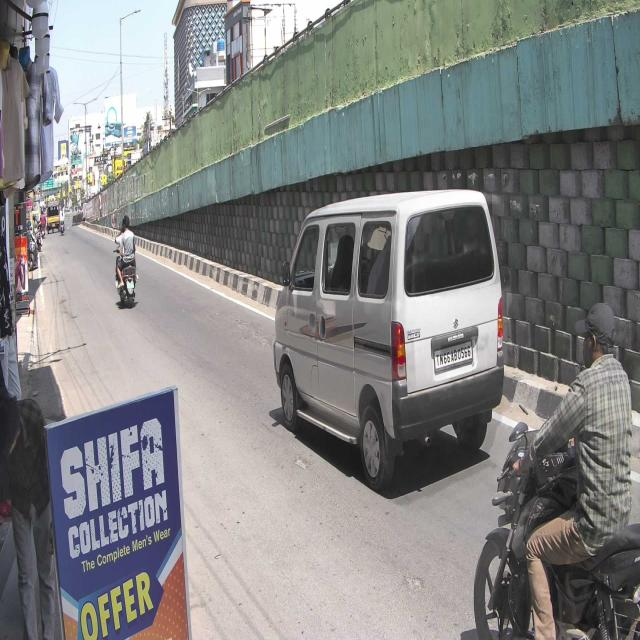single_rider: (472, 299, 640, 640)
